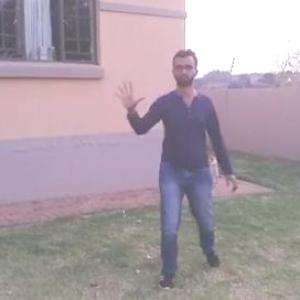follow_hand: (109, 76, 146, 113)
